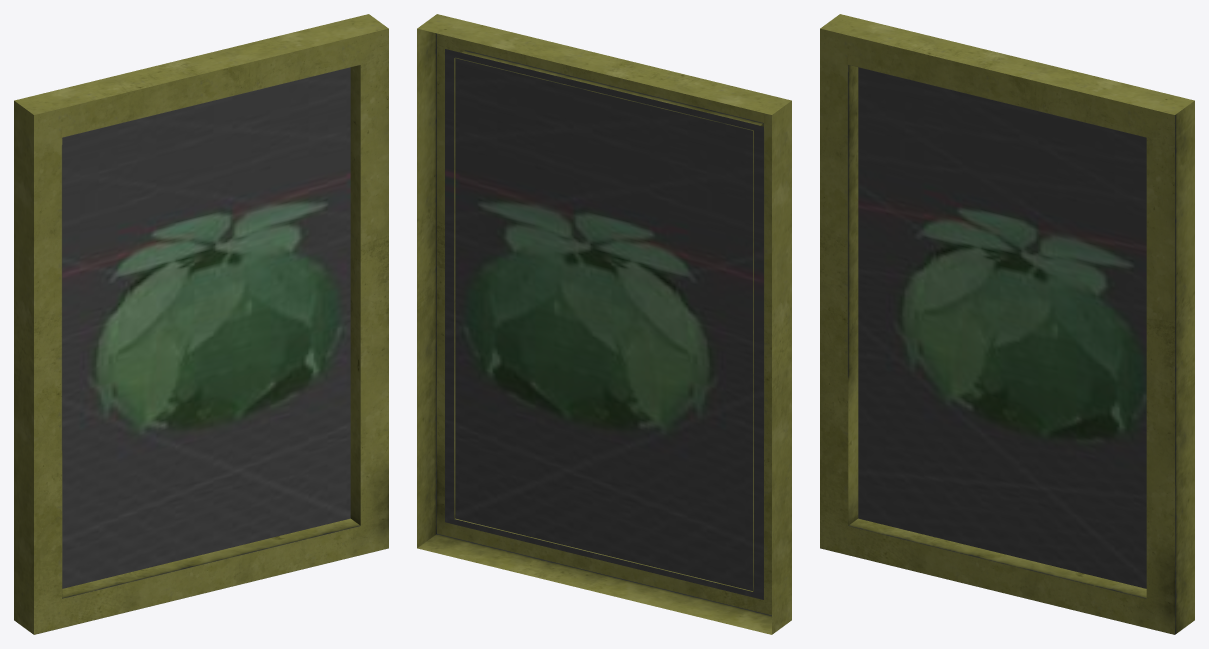
Rendered from Cuadro6.fbx.
3 renders of one model, left to right at view 1: azimuth 30°, elevation 25°; view 2: azimuth 150°, elevation 25°; view 3: azimuth 330°, elevation 25°, orthographic.
Visible parts, largest first — view 1: Plane, marco; view 2: Plane, marco; view 3: Plane, marco.
Part boxes in pixels (x1,y1,x2,y2): Plane: [62, 67, 350, 588]; marco: [14, 14, 388, 634]; Plane: [445, 49, 763, 599]; marco: [417, 14, 791, 634]; Plane: [858, 67, 1146, 588]; marco: [820, 14, 1194, 634].
Size of the model in its own units: 80 by 112 by 7.79.
